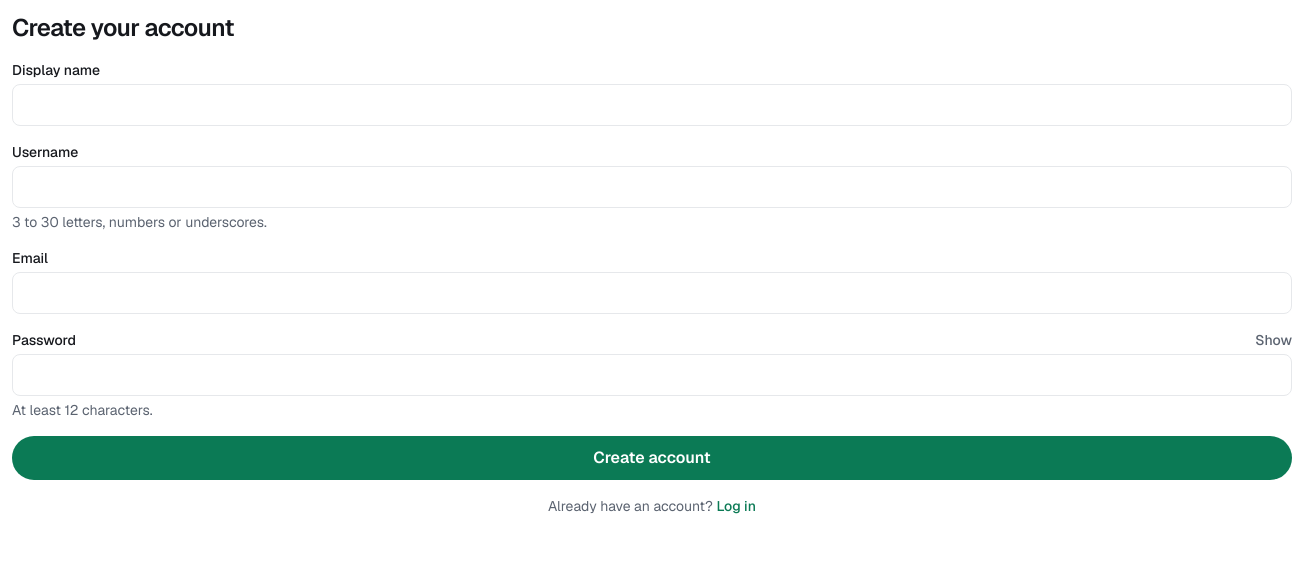
Scenario: RegisterForm › explains another conflict for the whole form
The image size is (1304, 585).
Type "  Test Viewer " into the field labelled "Display name" at (652, 105), box [12, 84, 1292, 126]
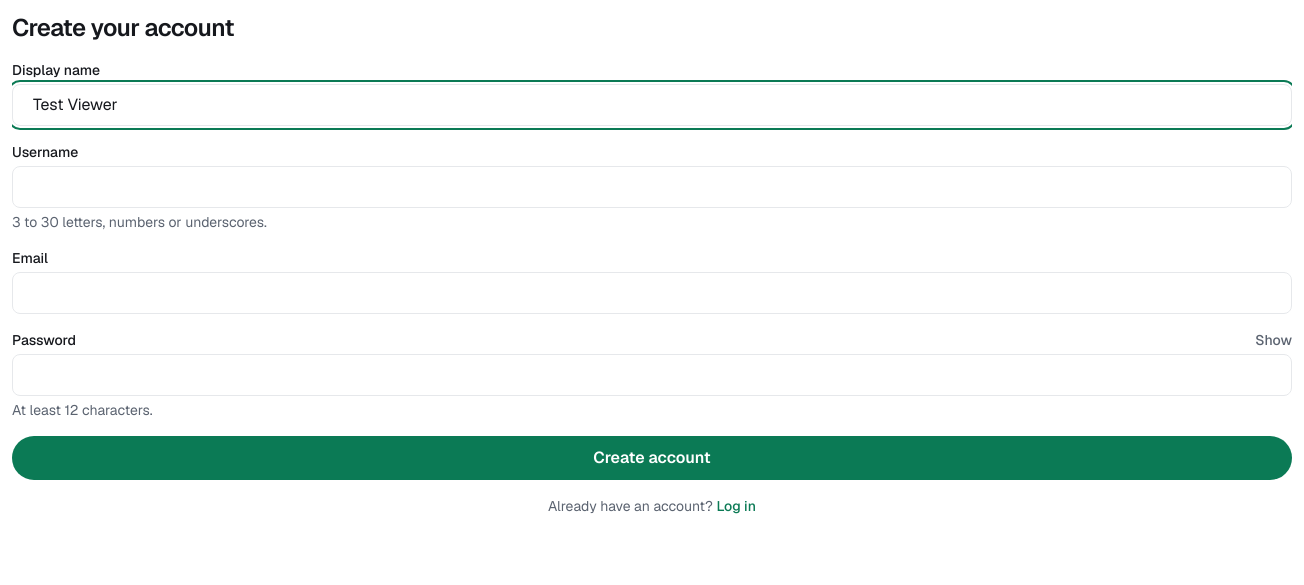
Type " test_viewer " into the field labelled "Username" at (652, 187), box [12, 166, 1292, 208]
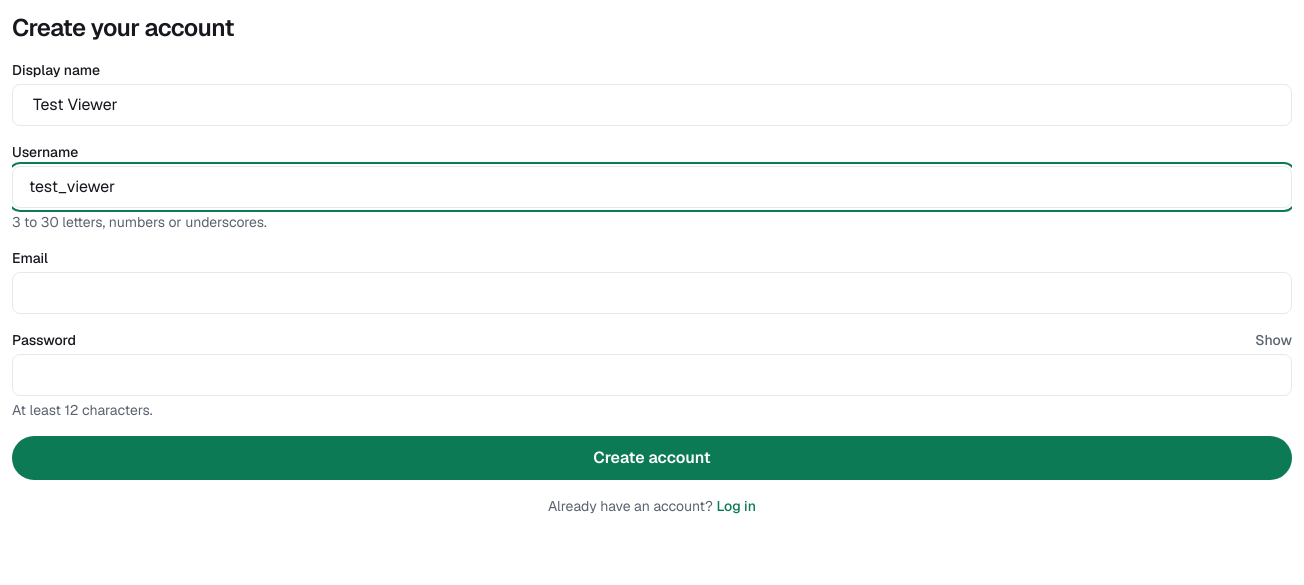
Type " test_viewer@example.com " into the field labelled "Email" at (652, 293), box [12, 272, 1292, 314]
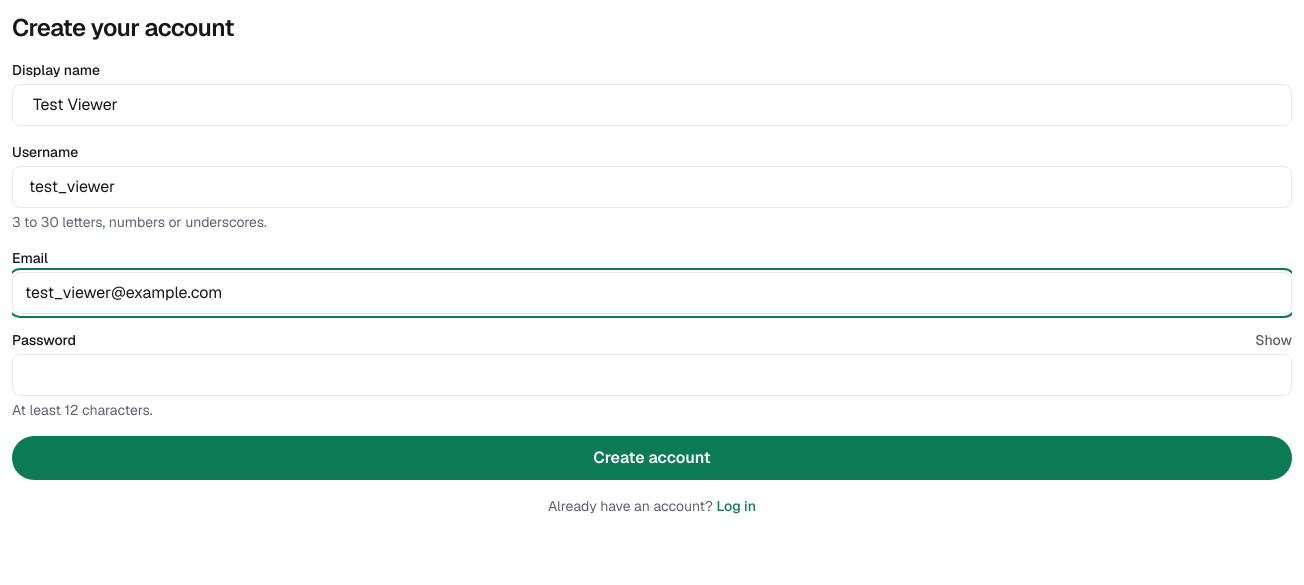
Type " a long password " into the password field labelled "Password" at (652, 375), box [12, 354, 1292, 396]
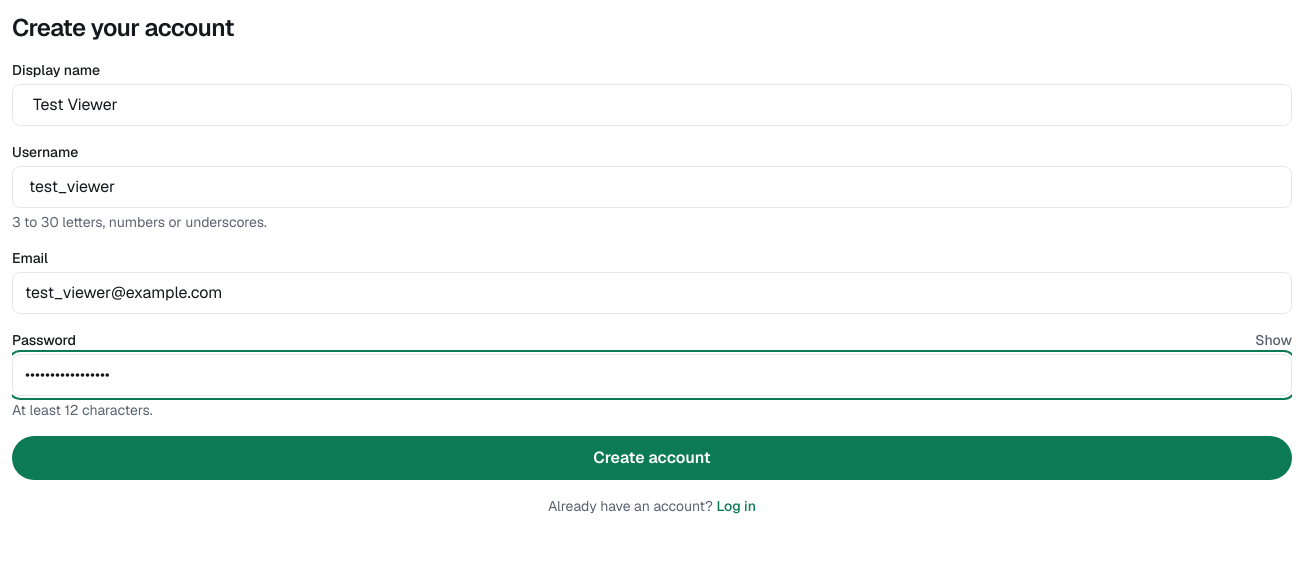
Click the button "Create account" at (652, 458), box [12, 436, 1292, 480]
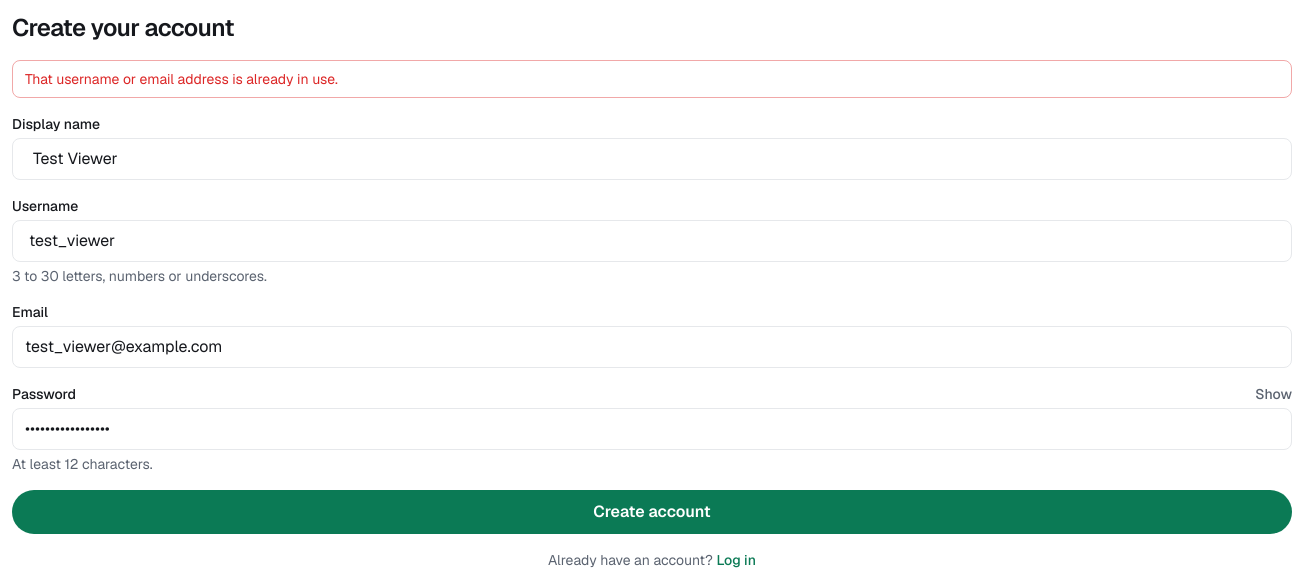
Expected: the button "Create account" is enabled, [12, 490, 1292, 534]
Expected: the message reads "That username or email address is already in use.", [25, 70, 338, 88]
